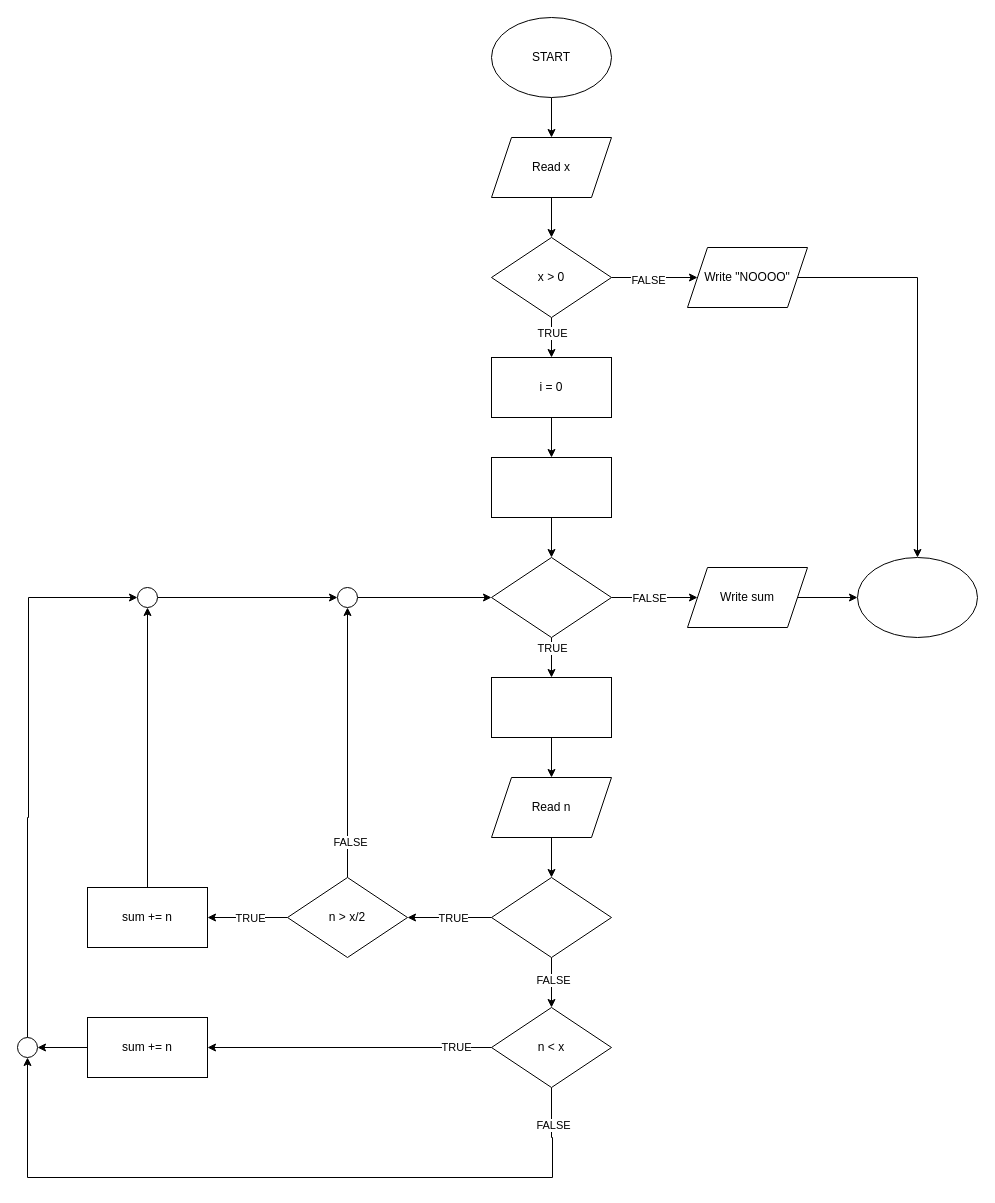
This 995x1203 diagram has some shape labels left out. The shapes that lost their labels are listed below. From the top down, each one's centre as x and y in pixels, then its label:
pixel 551 487: sum = 0
pixel 551 597: i < 10
pixel 917 597: END
pixel 551 707: i++
pixel 551 917: x % 2 == 0
